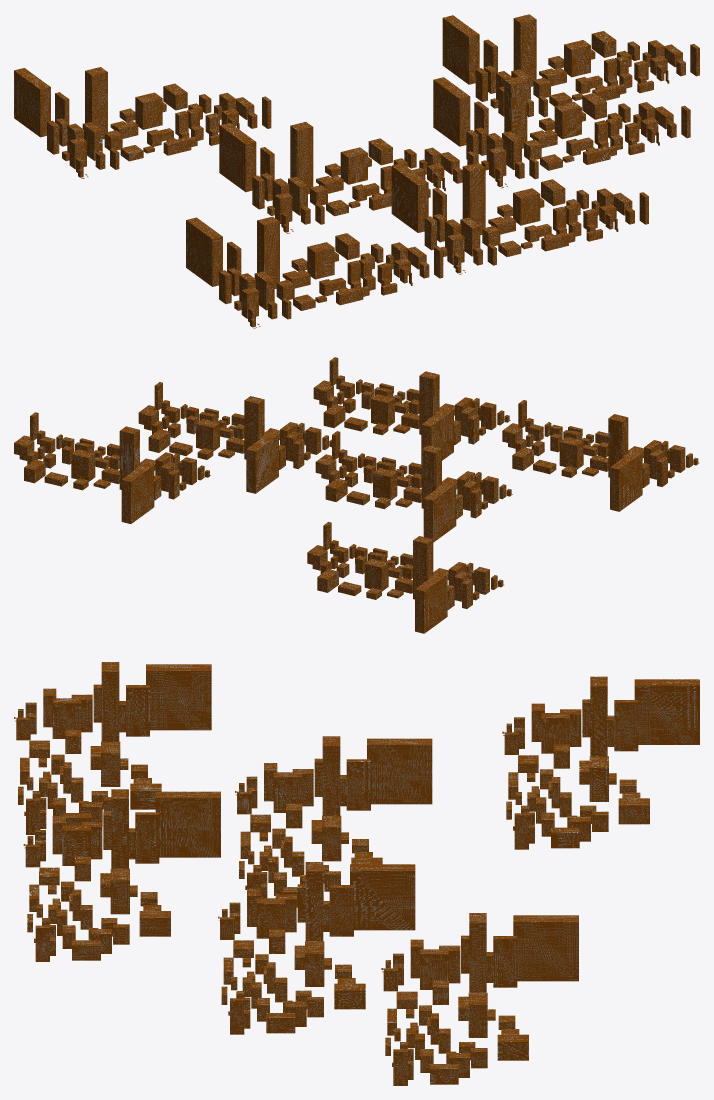
The model's file is blocks.obj.
3 views of the same model, one above another, from view 1: azimuth 30°, elevation 25°; view 2: azimuth 150°, elevation 25°; view 3: azimuth 270°, elevation 25° (orthographic). The views are drawn at different scales.
Parts seen in each view (by area): view 1: Mesh60 Model, Mesh108 Model, Mesh145 Model, Mesh252 Model, Mesh203 Model, Mesh10 Model, Mesh250 Model, Mesh58 Model, Mesh148 Model, Mesh106 Model, Mesh238 Model, Mesh16 Model (+17 smaller); view 2: Mesh252 Model, Mesh108 Model, Mesh145 Model, Mesh10 Model, Mesh203 Model, Mesh60 Model, Mesh250 Model, Mesh106 Model, Mesh58 Model, Mesh148 Model, Mesh16 Model, Mesh238 Model (+6 smaller); view 3: Mesh60 Model, Mesh108 Model, Mesh10 Model, Mesh252 Model, Mesh145 Model, Mesh203 Model, Mesh16 Model, Mesh106 Model, Mesh148 Model, Mesh238 Model, Mesh58 Model, Mesh250 Model (+23 smaller).
Boxes of the visible parts, x1,y1,x2,y2 form: Mesh60 Model: (391, 163, 428, 232); Mesh108 Model: (219, 122, 256, 192); Mesh145 Model: (433, 77, 470, 146); Mesh252 Model: (442, 15, 479, 84); Mesh203 Model: (14, 68, 50, 137); Mesh10 Model: (186, 217, 222, 286); Mesh250 Model: (513, 14, 536, 86); Mesh58 Model: (462, 162, 485, 234); Mesh148 Model: (504, 76, 527, 148); Mesh106 Model: (290, 122, 313, 194); Mesh238 Model: (85, 67, 107, 139); Mesh16 Model: (257, 216, 279, 288); Mesh252 Model: (121, 462, 154, 523); Mesh108 Model: (423, 481, 456, 542); Mesh145 Model: (246, 432, 278, 493); Mesh10 Model: (610, 450, 642, 511); Mesh203 Model: (415, 572, 447, 633); Mesh60 Model: (421, 407, 453, 464); Mesh250 Model: (119, 426, 139, 489); Mesh106 Model: (421, 445, 441, 508); Mesh58 Model: (419, 371, 439, 434); Mesh148 Model: (244, 396, 264, 459); Mesh16 Model: (608, 414, 628, 477); Mesh238 Model: (413, 536, 433, 599); Mesh60 Model: (155, 791, 220, 857); Mesh108 Model: (367, 738, 432, 804); Mesh10 Model: (146, 664, 211, 730); Mesh252 Model: (513, 915, 578, 981); Mesh145 Model: (350, 864, 415, 930); Mesh203 Model: (634, 679, 699, 744); Mesh16 Model: (101, 662, 119, 741); Mesh106 Model: (322, 736, 340, 815); Mesh148 Model: (305, 862, 323, 941); Mesh238 Model: (590, 676, 607, 756); Mesh58 Model: (111, 789, 128, 868); Mesh250 Model: (469, 913, 486, 992).
Bounding box in the file's own units: 494 × 55.8 × 394.
